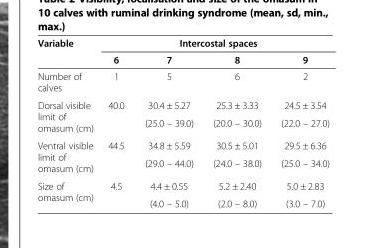table: (36, 36, 328, 208)
table column: (133, 36, 202, 208), (202, 36, 270, 208), (36, 36, 100, 208), (270, 36, 328, 208), (100, 36, 133, 208)
table column header: (36, 36, 328, 67)
table row: (36, 67, 328, 96), (36, 113, 328, 136), (36, 154, 328, 176), (36, 136, 328, 154), (36, 176, 328, 194), (36, 50, 328, 67), (36, 96, 328, 113), (36, 36, 328, 50), (36, 194, 328, 208)
table spanning cell: (100, 36, 328, 50), (36, 96, 100, 136), (36, 136, 100, 176), (36, 176, 100, 208), (36, 36, 100, 67), (100, 96, 133, 136), (100, 136, 133, 176), (100, 176, 133, 208)
